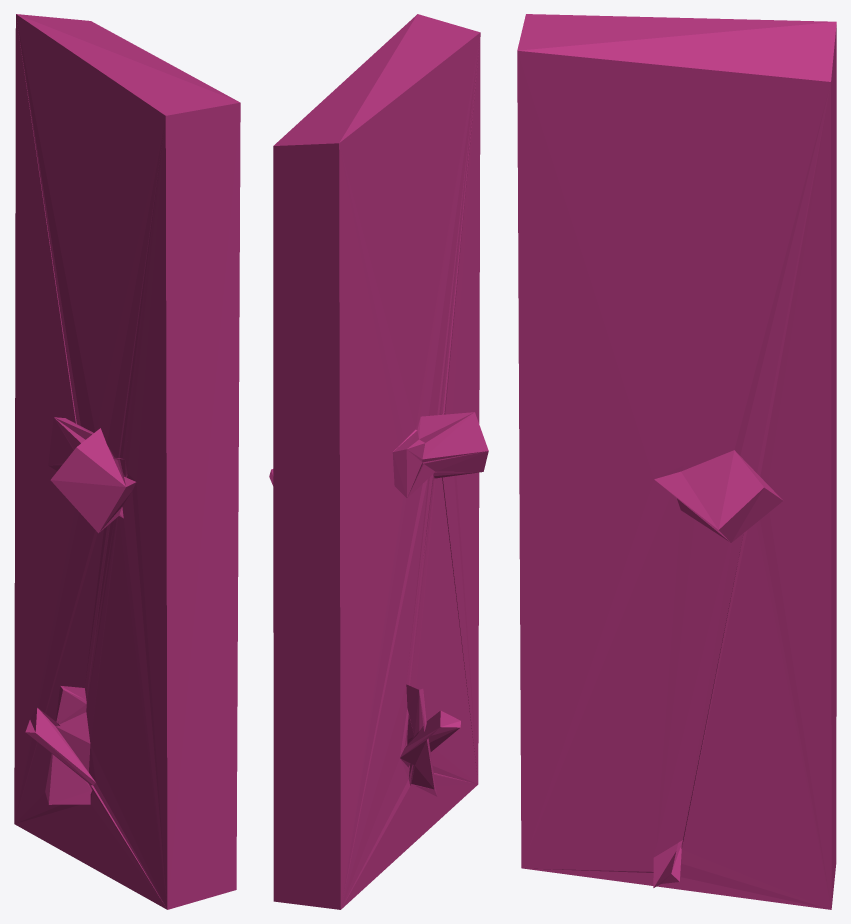
3 views of the same model, side by side, from view 1: azimuth 30°, elevation 25°; view 2: azimuth 150°, elevation 25°; view 3: azimuth 270°, elevation 25° (orthographic). The views are drawn at different scales.
Visible parts, largest first — view 1: 873_Cube.3527; view 2: 873_Cube.3527; view 3: 873_Cube.3527.
Boxes of the visible parts, x1=… form: 873_Cube.3527: x1=14, y1=14, x2=240, y2=909; 873_Cube.3527: x1=269, y1=14, x2=488, y2=909; 873_Cube.3527: x1=517, y1=14, x2=836, y2=909.
Bounding box in the file's own units: 3.01 × 12.36 × 4.16.
